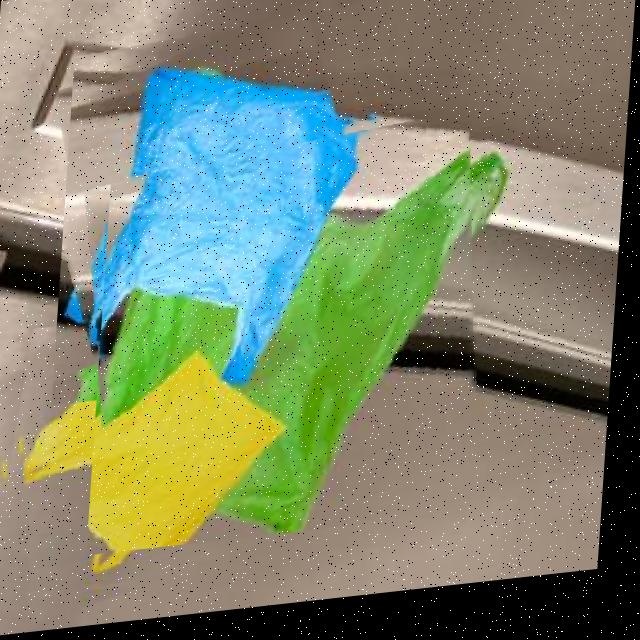plasticcover: (93, 116, 497, 557), (56, 8, 399, 406), (0, 306, 302, 617)
